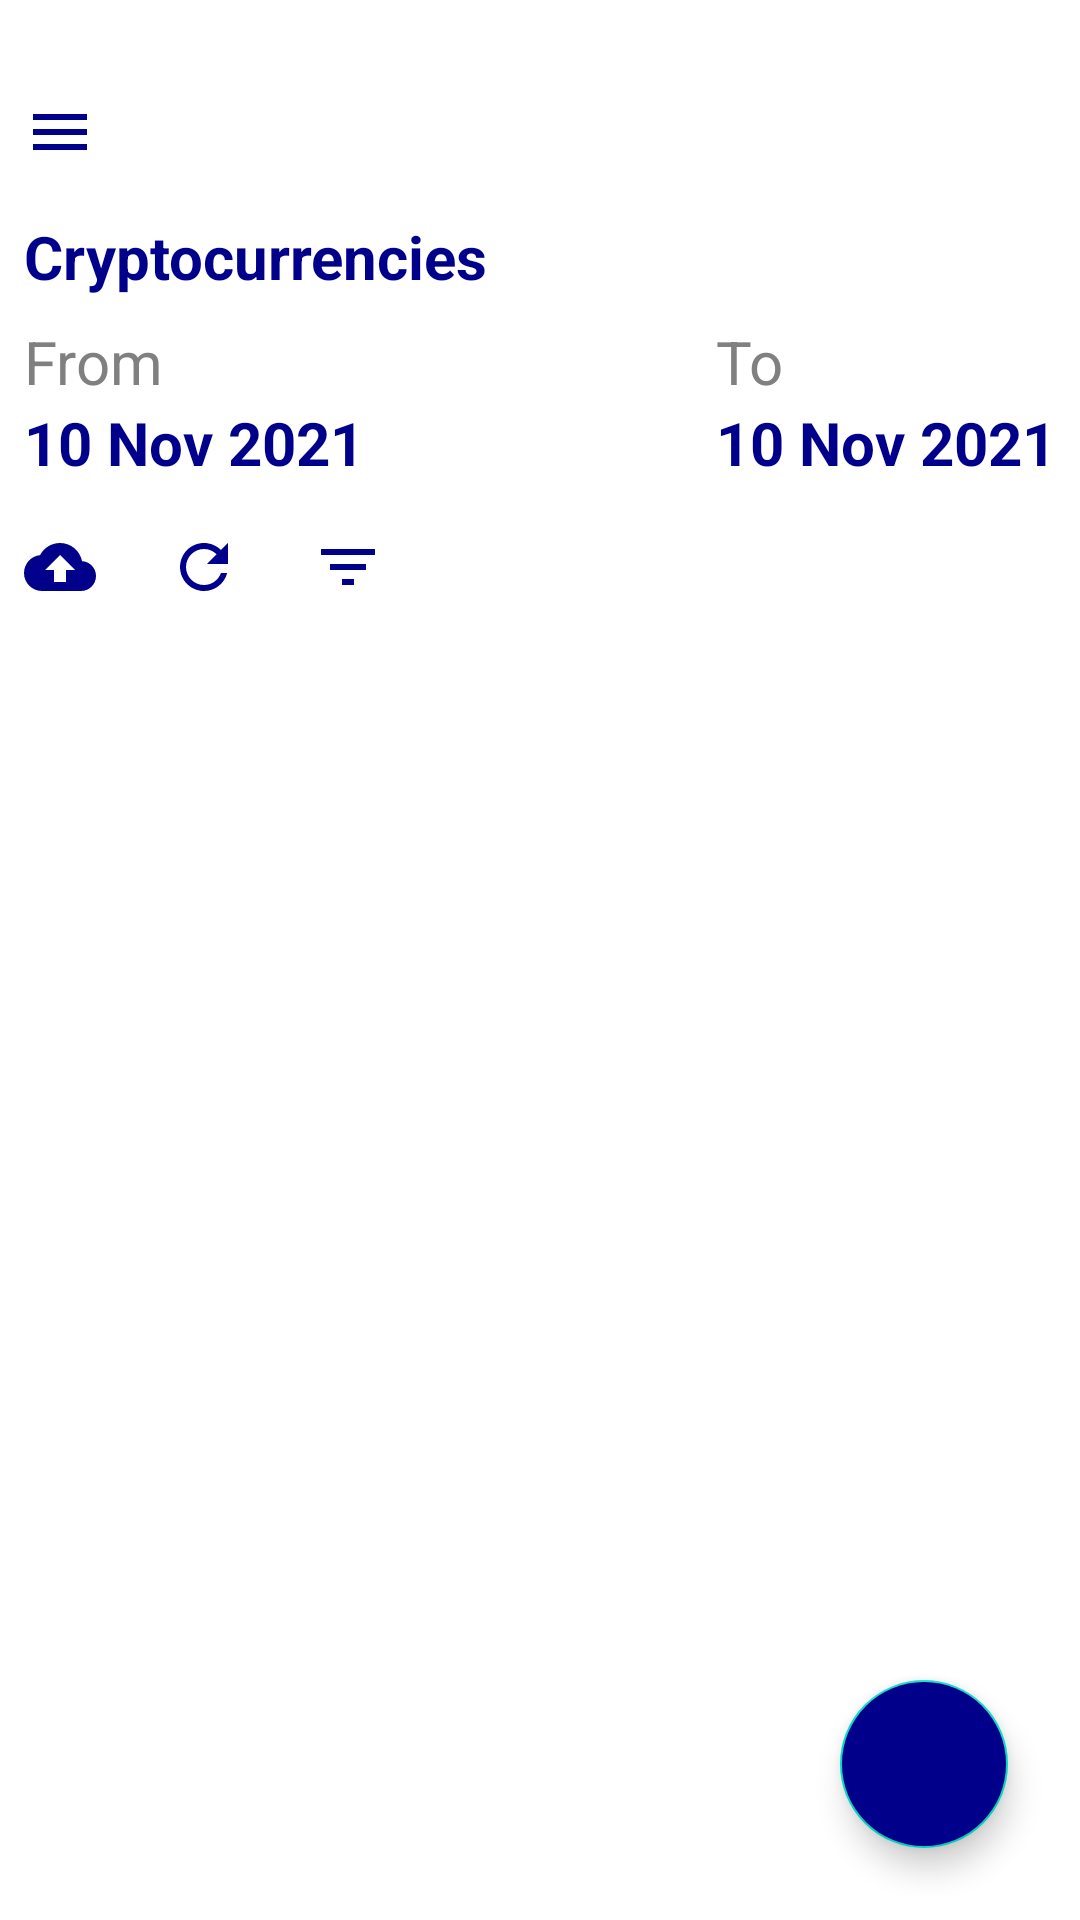

Named icons in this screenshot (1080px×1920px) and their bounding boxes, {"left": x1, "top": y1, "right": x2, "bottom": y2}:
cloud upload: {"left": 24, "top": 543, "right": 96, "bottom": 591}
filter list: {"left": 321, "top": 549, "right": 375, "bottom": 585}
menu: {"left": 33, "top": 114, "right": 87, "bottom": 150}
refresh: {"left": 180, "top": 543, "right": 228, "bottom": 591}
